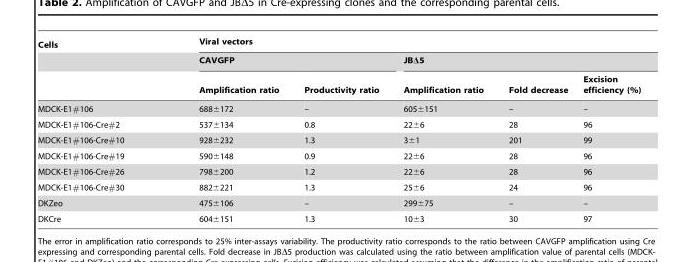table: (36, 36, 640, 223)
table column: (160, 36, 291, 223), (36, 36, 160, 223), (390, 36, 495, 223), (291, 36, 390, 223), (495, 36, 574, 223), (574, 36, 640, 223)
table column header: (36, 36, 640, 98)
table row: (36, 69, 640, 98), (36, 98, 640, 116), (36, 52, 640, 69), (36, 36, 640, 52), (36, 116, 640, 132), (36, 147, 640, 163), (36, 163, 640, 179), (36, 179, 640, 195), (36, 132, 640, 147), (36, 195, 640, 210), (36, 210, 640, 223)
table spanning cell: (36, 36, 160, 98), (160, 36, 640, 52), (390, 52, 640, 69), (160, 52, 390, 69)
